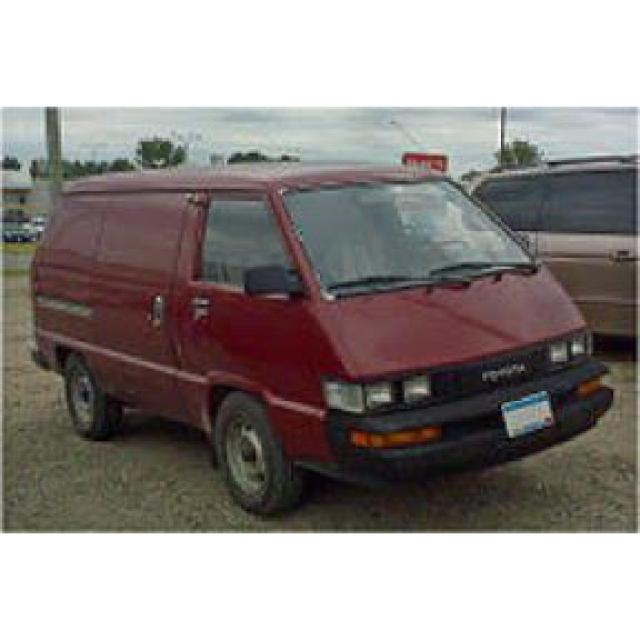Van: (34, 154, 608, 514)
